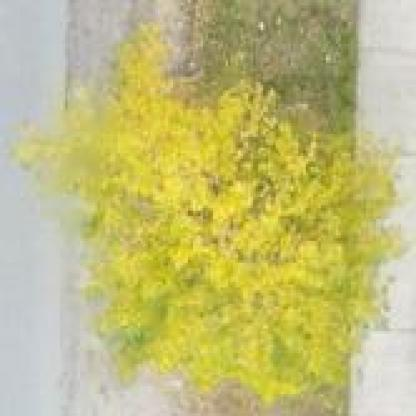Deciduous Tree: (18, 19, 398, 378)
